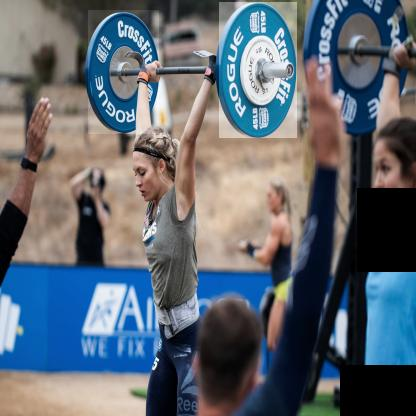barbell: (220, 3, 298, 139), (89, 11, 160, 135)
